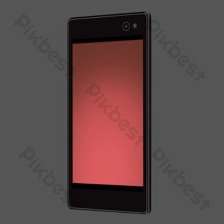phone: (63, 8, 154, 216)
